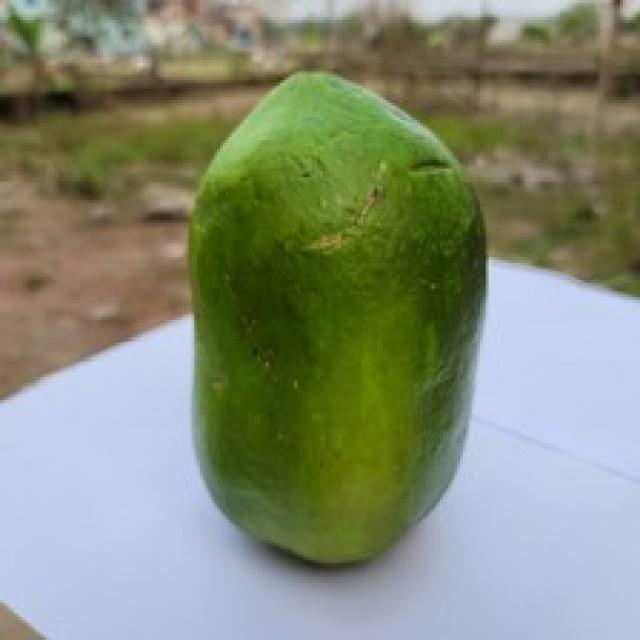Pepaya unrippen: (169, 61, 496, 585)
